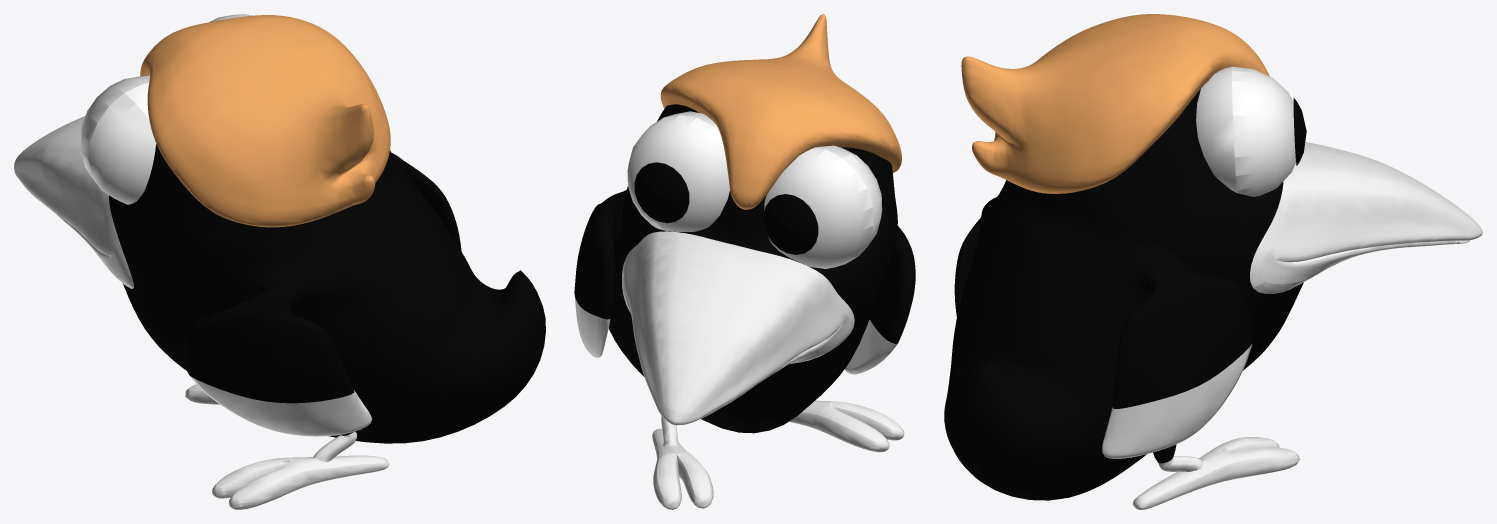
The model's file is bird1.gltf.
3 renders of one model, left to right at view 1: azimuth 30°, elevation 25°; view 2: azimuth 150°, elevation 25°; view 3: azimuth 270°, elevation 25°, orthographic. The views are drawn at different scales.
Visible parts, largest first — view 1: bird1; view 2: bird1; view 3: bird1.
Boxes of the visible parts, x1,y1,x2,y2 form: bird1: (14, 14, 545, 509); bird1: (574, 14, 915, 509); bird1: (944, 14, 1482, 509).
Size of the model in its own units: 1.2 by 1.33 by 1.53.
